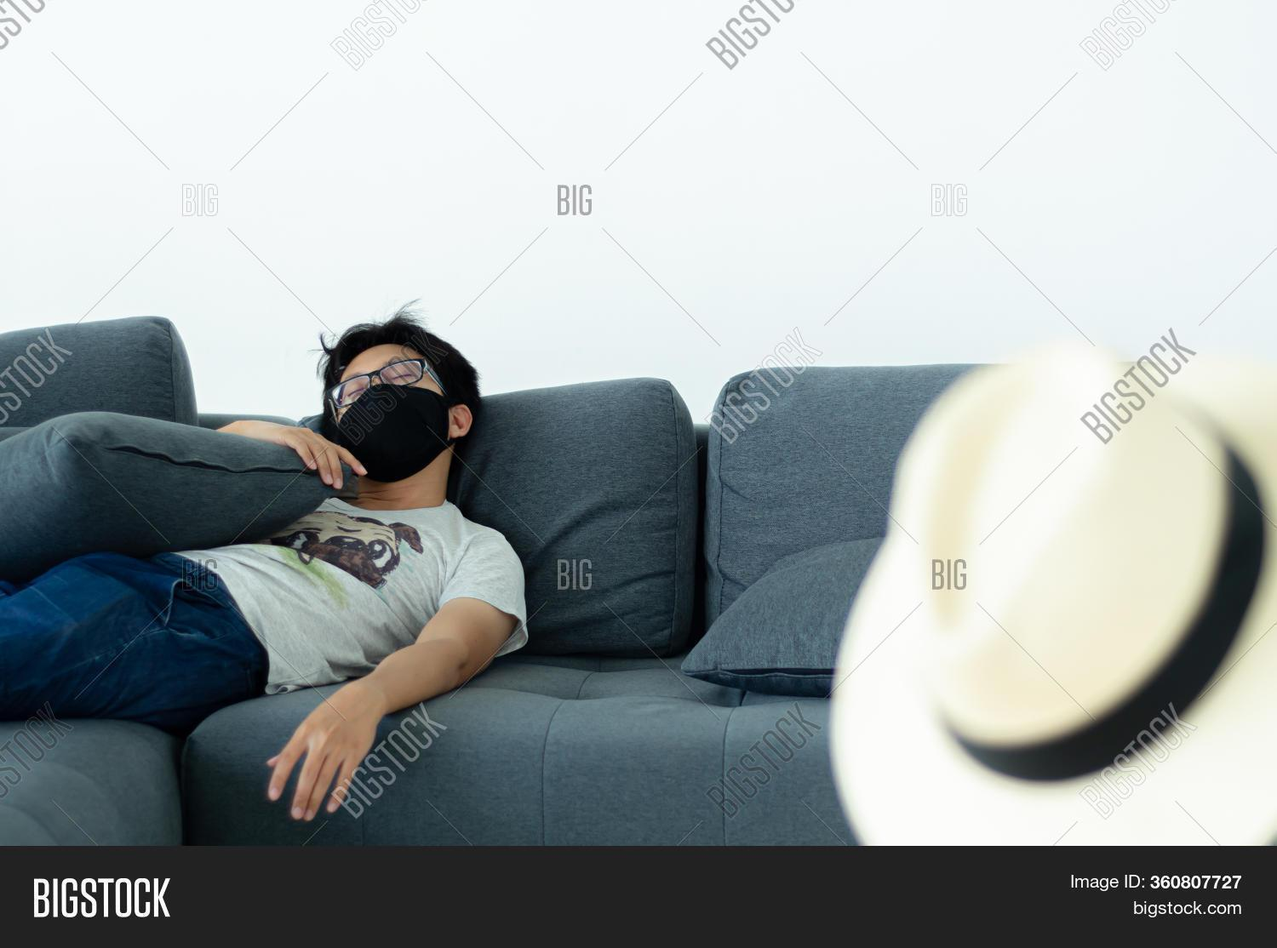OK: (335, 352, 444, 484)
